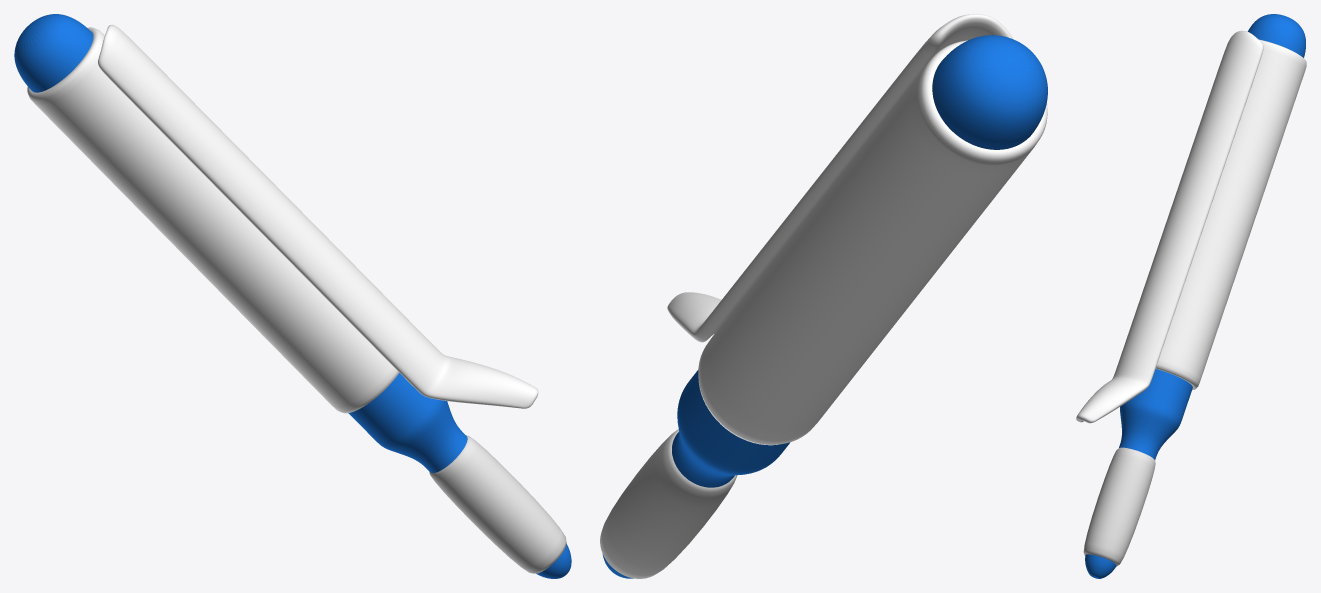
Rendered from curling-iron-3d-animated-icon-1383996938036.glb.
3 views of the same model, side by side, from view 1: azimuth 30°, elevation 25°; view 2: azimuth 150°, elevation 25°; view 3: azimuth 270°, elevation 25° (orthographic). The views are drawn at different scales.
Visible parts, largest first — view 1: Cylinder.083, Cylinder.001, Cylinder.082, Cylinder.085; view 2: Cylinder.083, Cylinder.082, Cylinder.085, Cylinder.001; view 3: Cylinder.083, Cylinder.001, Cylinder.082, Cylinder.085.
Part boxes in pixels (x1,y1,x2,y2): Cylinder.083: (27, 27, 399, 413); Cylinder.001: (98, 24, 538, 408); Cylinder.082: (14, 14, 571, 578); Cylinder.085: (429, 435, 566, 573); Cylinder.083: (698, 40, 1047, 445); Cylinder.082: (602, 35, 1047, 578); Cylinder.085: (600, 429, 737, 578); Cylinder.001: (667, 14, 1012, 342); Cylinder.083: (1155, 39, 1306, 390); Cylinder.001: (1076, 30, 1263, 423); Cylinder.082: (1085, 14, 1305, 578); Cylinder.085: (1083, 447, 1155, 566).
Size of the model in its own units: 3.58 by 4.49 by 2.22.
